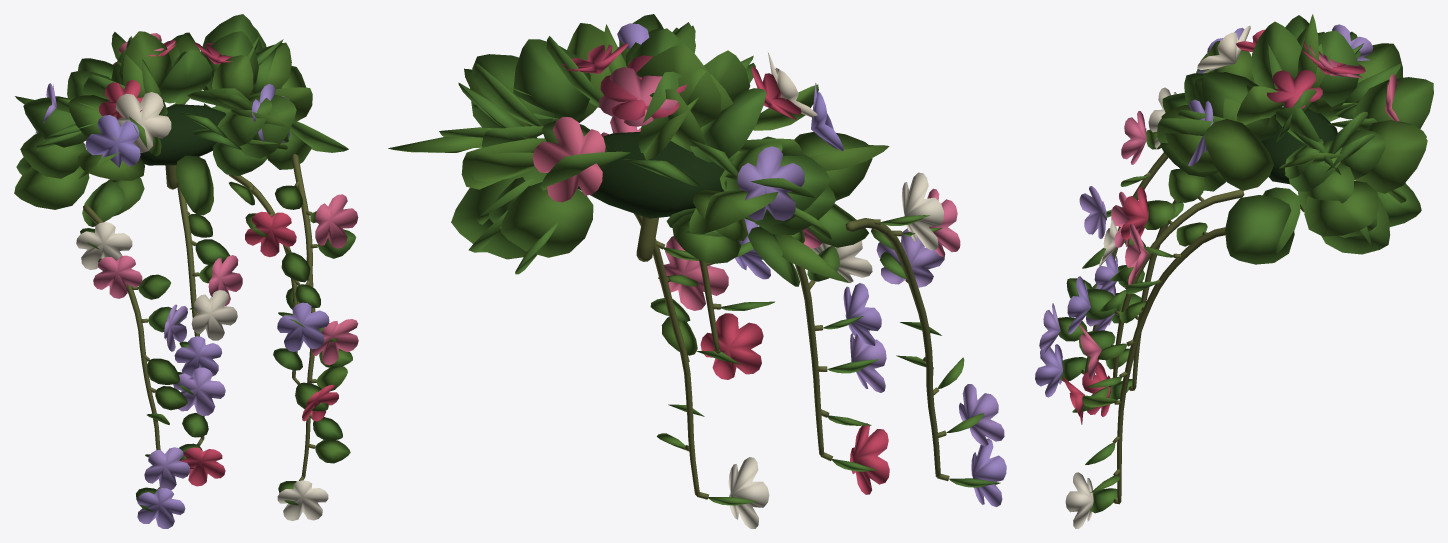
File: box_petunia.glb
3 renders of one model, left to right at view 1: azimuth 30°, elevation 25°; view 2: azimuth 150°, elevation 25°; view 3: azimuth 270°, elevation 25°, orthographic. The views are drawn at different scales.
Parts seen in each view (by area): view 1: Sammel Pflanze, Sammel Putz, Sammel Blatt; view 2: Sammel Pflanze, Sammel Putz, Sammel Blatt; view 3: Sammel Pflanze, Sammel Putz, Sammel Blatt.
Part boxes in pixels (x1=…): Sammel Pflanze: x1=14, y1=14, x2=358, y2=528; Sammel Putz: x1=83, y1=153, x2=317, y2=489; Sammel Blatt: x1=140, y1=104, x2=226, y2=165; Sammel Pflanze: x1=388, y1=14, x2=1006, y2=528; Sammel Putz: x1=634, y1=213, x2=949, y2=499; Sammel Blatt: x1=577, y1=131, x2=724, y2=218; Sammel Pflanze: x1=1035, y1=14, x2=1433, y2=528; Sammel Putz: x1=1080, y1=152, x2=1304, y2=504; Sammel Blatt: x1=1261, y1=107, x2=1337, y2=184.
Bounding box in the file's own units: 0.3623 × 0.4836 × 0.3661.
